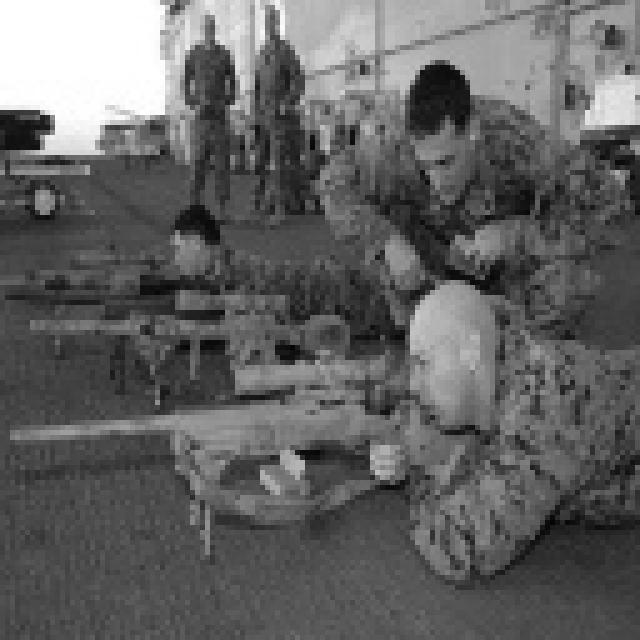Rifle: (0, 366, 480, 570), (28, 275, 373, 407), (0, 200, 245, 325)
